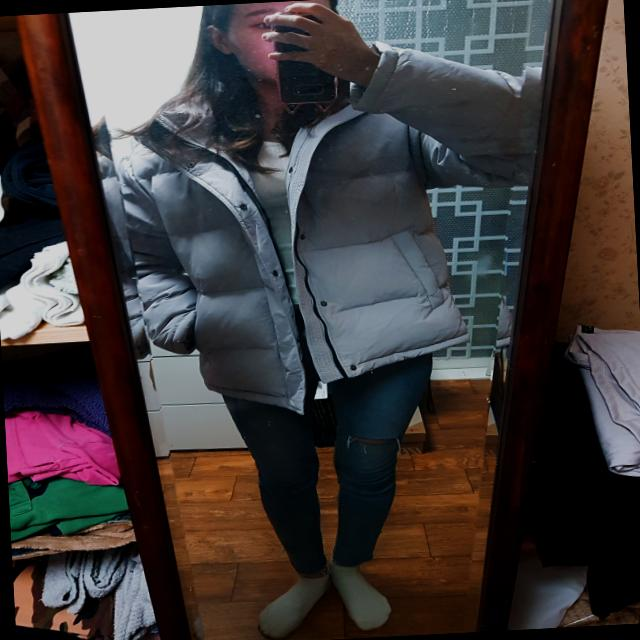denimpants: (221, 294, 444, 576)
padding: (107, 46, 540, 427)
